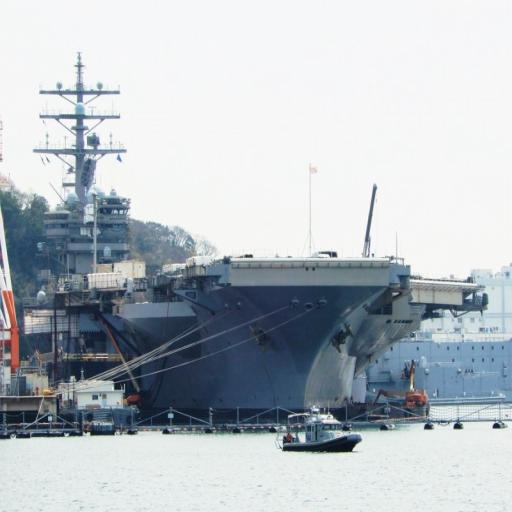Portanaves: (28, 46, 498, 415)
